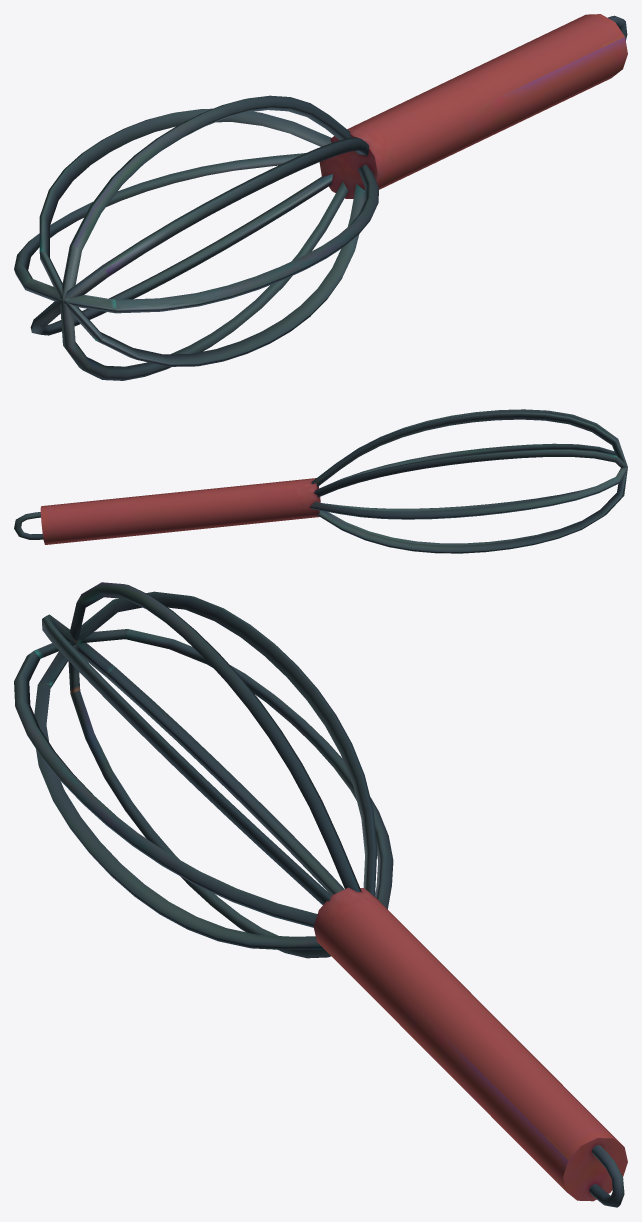
File: whisk.glb
The picture shows the model from 3 angles, top to bottom: view 1: azimuth 30°, elevation 25°; view 2: azimuth 150°, elevation 25°; view 3: azimuth 270°, elevation 25°; orthographic projection. The views are drawn at different scales.
Parts seen in each view (by area): view 1: Whisk; view 2: Whisk; view 3: Whisk.
Boxes of the visible parts, x1=… form: Whisk: x1=14, y1=14, x2=627, y2=380; Whisk: x1=14, y1=409, x2=627, y2=553; Whisk: x1=14, y1=582, x2=627, y2=1207.
Bounding box in the file's own units: 0.2917 × 0.082 × 0.1735.
1 material, 1 textured.
